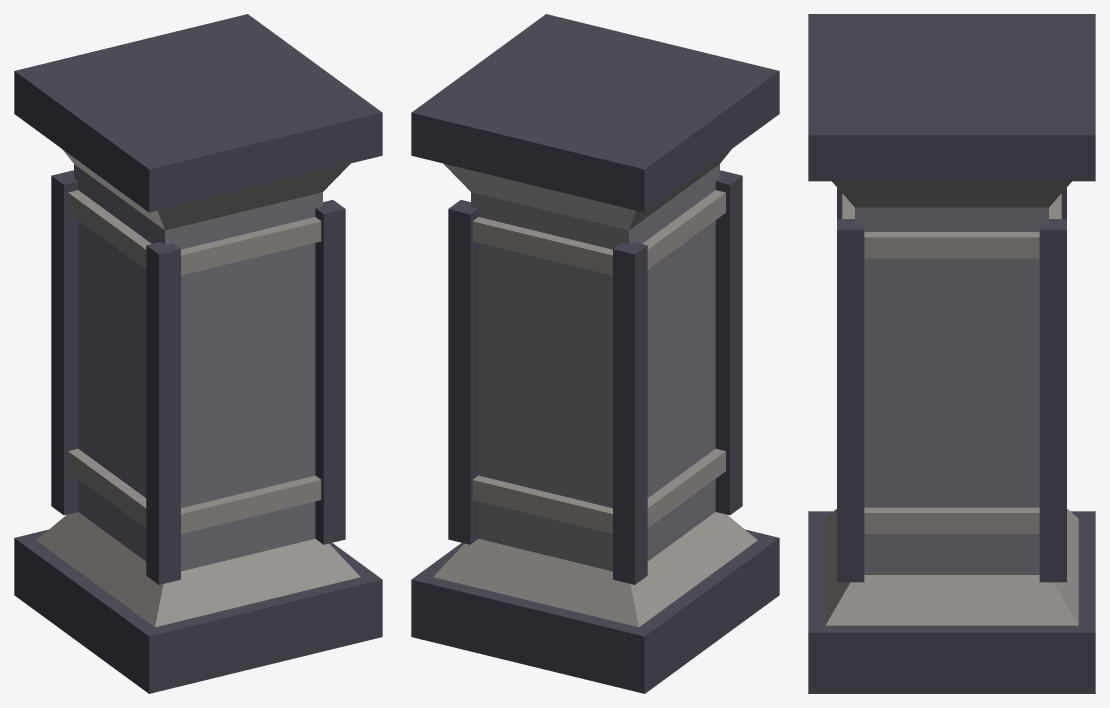
File: pillar_carved.fbx
3 views of the same model, side by side, from view 1: azimuth 30°, elevation 25°; view 2: azimuth 150°, elevation 25°; view 3: azimuth 270°, elevation 25° (orthographic). The views are drawn at different scales.
Parts seen in each view (by area): view 1: pillar_carved; view 2: pillar_carved; view 3: pillar_carved.
Boxes of the visible parts, <box> form: pillar_carved: <box>14,14,382,693</box>; pillar_carved: <box>411,14,779,693</box>; pillar_carved: <box>808,14,1095,693</box>.
Bounding box in the file's own units: 1.7 × 3.65 × 1.7.
